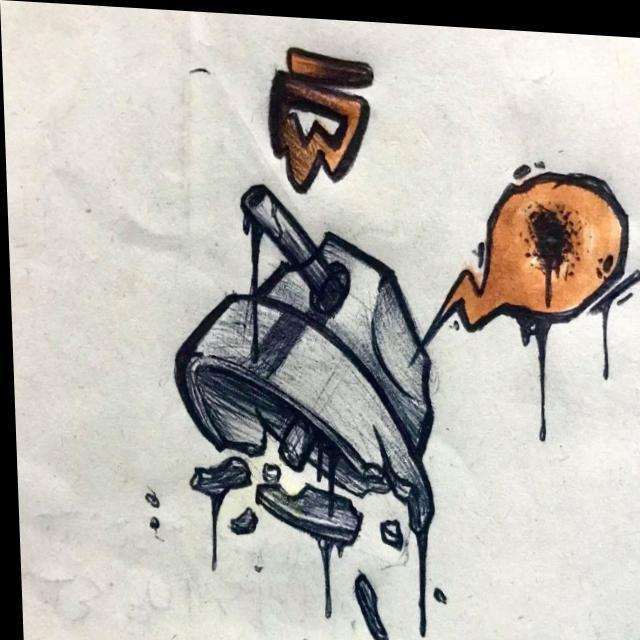spitting: (180, 46, 635, 632)
